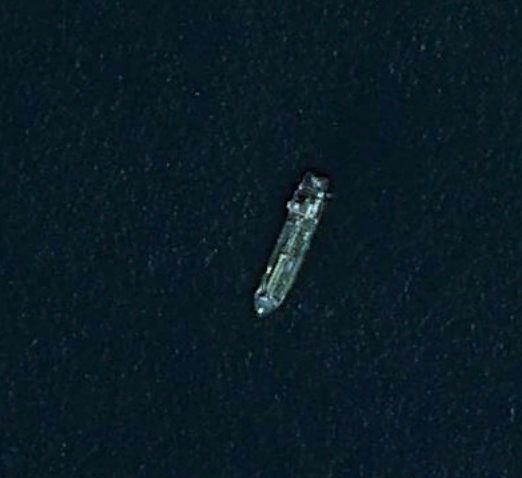Ships: (250, 164, 336, 329)
